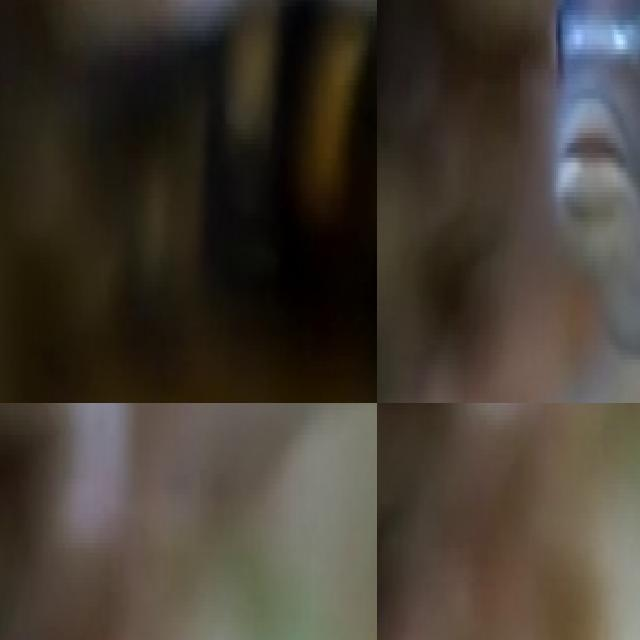fish: (0, 0, 377, 403), (498, 0, 640, 379)
